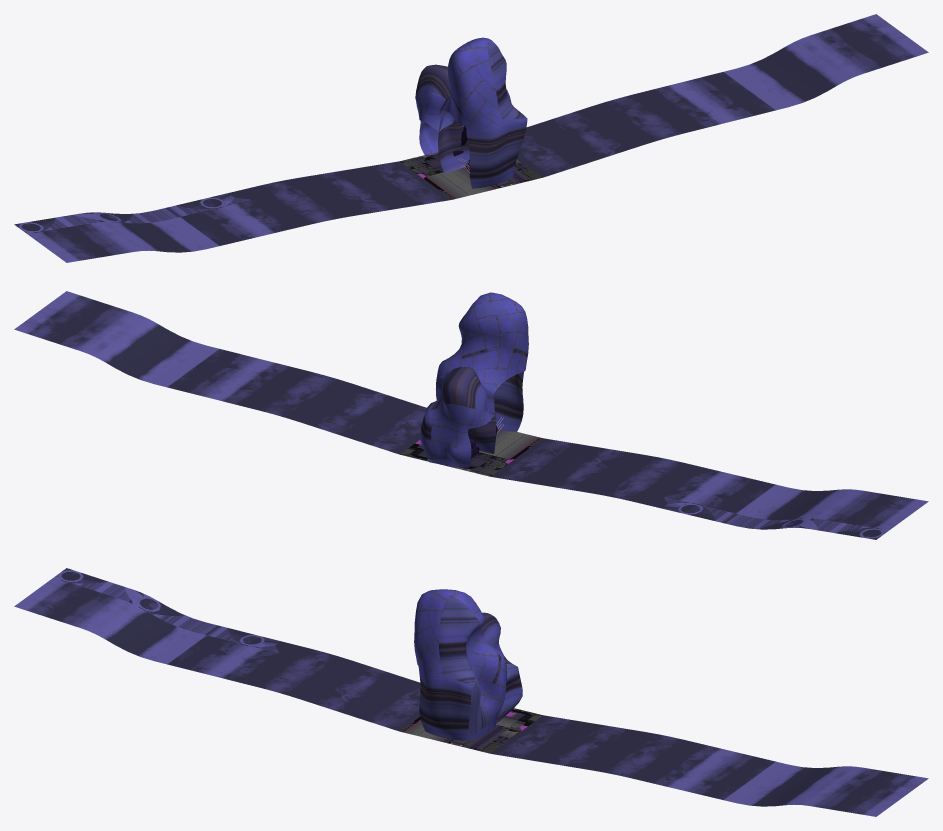
The model's file is Enviroment1Optimized.gltf.
3 views of the same model, one above another, from view 1: azimuth 30°, elevation 25°; view 2: azimuth 150°, elevation 25°; view 3: azimuth 330°, elevation 25° (orthographic).
Visible parts, largest first — view 1: SideRailing, Rocks22, Ground; view 2: SideRailing, Rocks22, Ground; view 3: SideRailing, Rocks22, Ground.
Boxes of the visible parts, x1,y1,x2,y2 form: SideRailing: [14, 14, 928, 262]; Rocks22: [415, 37, 527, 188]; Ground: [400, 152, 542, 199]; SideRailing: [14, 291, 928, 539]; Rocks22: [420, 292, 528, 467]; Ground: [400, 429, 542, 476]; SideRailing: [14, 568, 928, 816]; Rocks22: [414, 589, 522, 740]; Ground: [400, 708, 542, 753].
Size of the model in its own units: 125 by 19.81 by 16.38.
